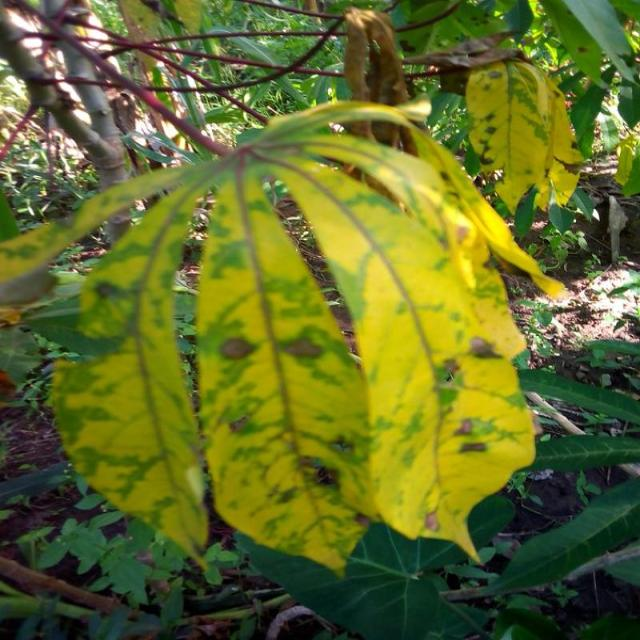cassava leaf: (44, 99, 546, 586), (195, 162, 376, 577), (466, 56, 584, 216)
